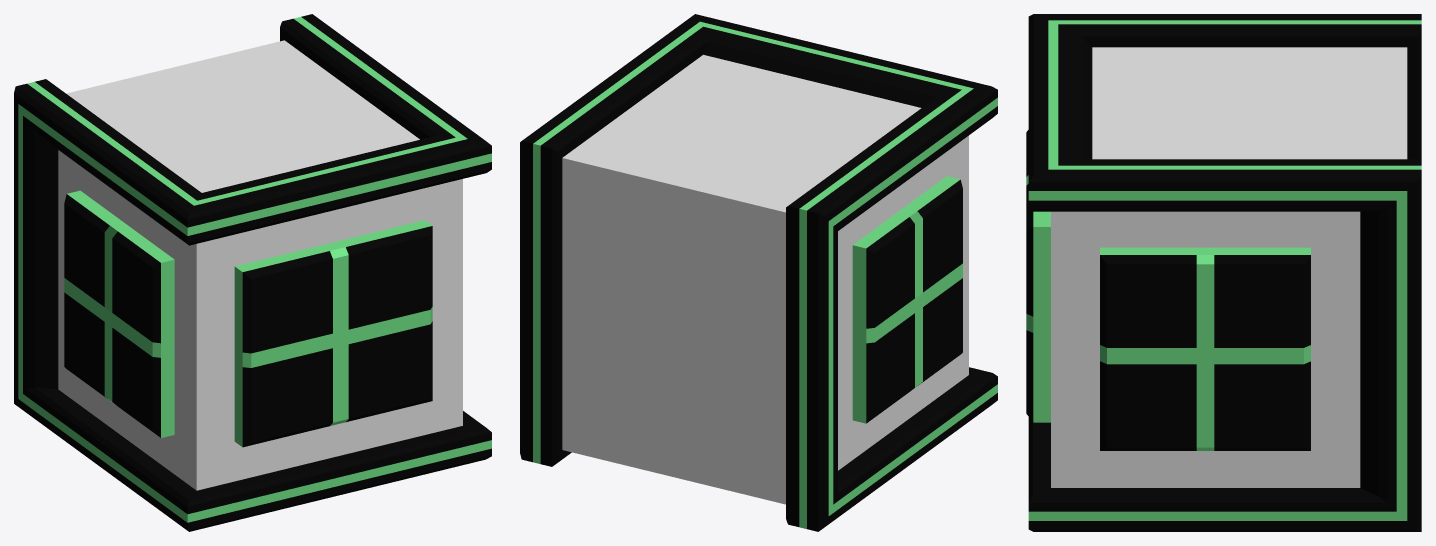
File: cityCubeHQ6.glb
3 views of the same model, side by side, from view 1: azimuth 30°, elevation 25°; view 2: azimuth 150°, elevation 25°; view 3: azimuth 270°, elevation 25° (orthographic). The views are drawn at different scales.
Parts seen in each view (by area): view 1: base.009; view 2: base.009; view 3: base.009.
Boxes of the visible parts, x1,y1,x2,y2 form: base.009: (14, 14, 491, 531); base.009: (520, 14, 997, 531); base.009: (1026, 14, 1421, 531).
Bounding box in the file's own units: 1.99 × 1.99 × 2.
